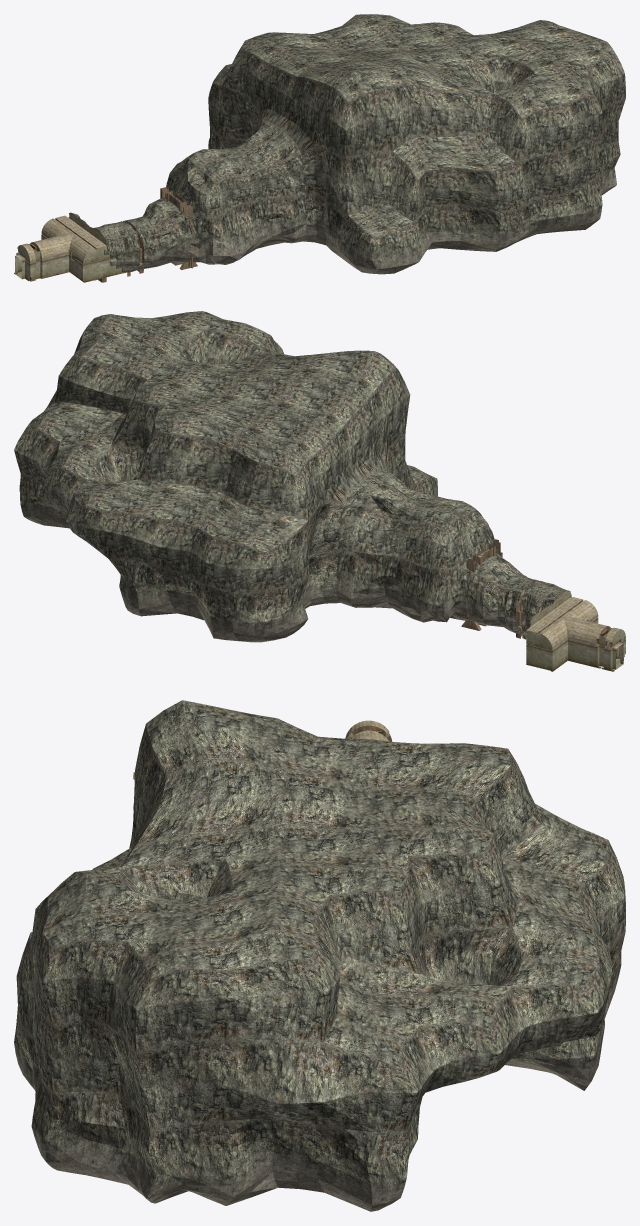
File: poi_all_bunker_mad_bio_s01_r43_largeendcave_mesh_r43.fbx
3 renders of one model, top to bottom at view 1: azimuth 30°, elevation 25°; view 2: azimuth 150°, elevation 25°; view 3: azimuth 270°, elevation 25°, orthographic. The views are drawn at different scales.
Visible parts, largest first — view 1: mesh_node; view 2: mesh_node; view 3: mesh_node.
Boxes of the visible parts, x1,y1,x2,y2 form: mesh_node: [14, 14, 625, 282]; mesh_node: [14, 311, 625, 671]; mesh_node: [14, 700, 625, 1211].
Bounding box in the file's own units: 91.69 × 29.38 × 51.56.
